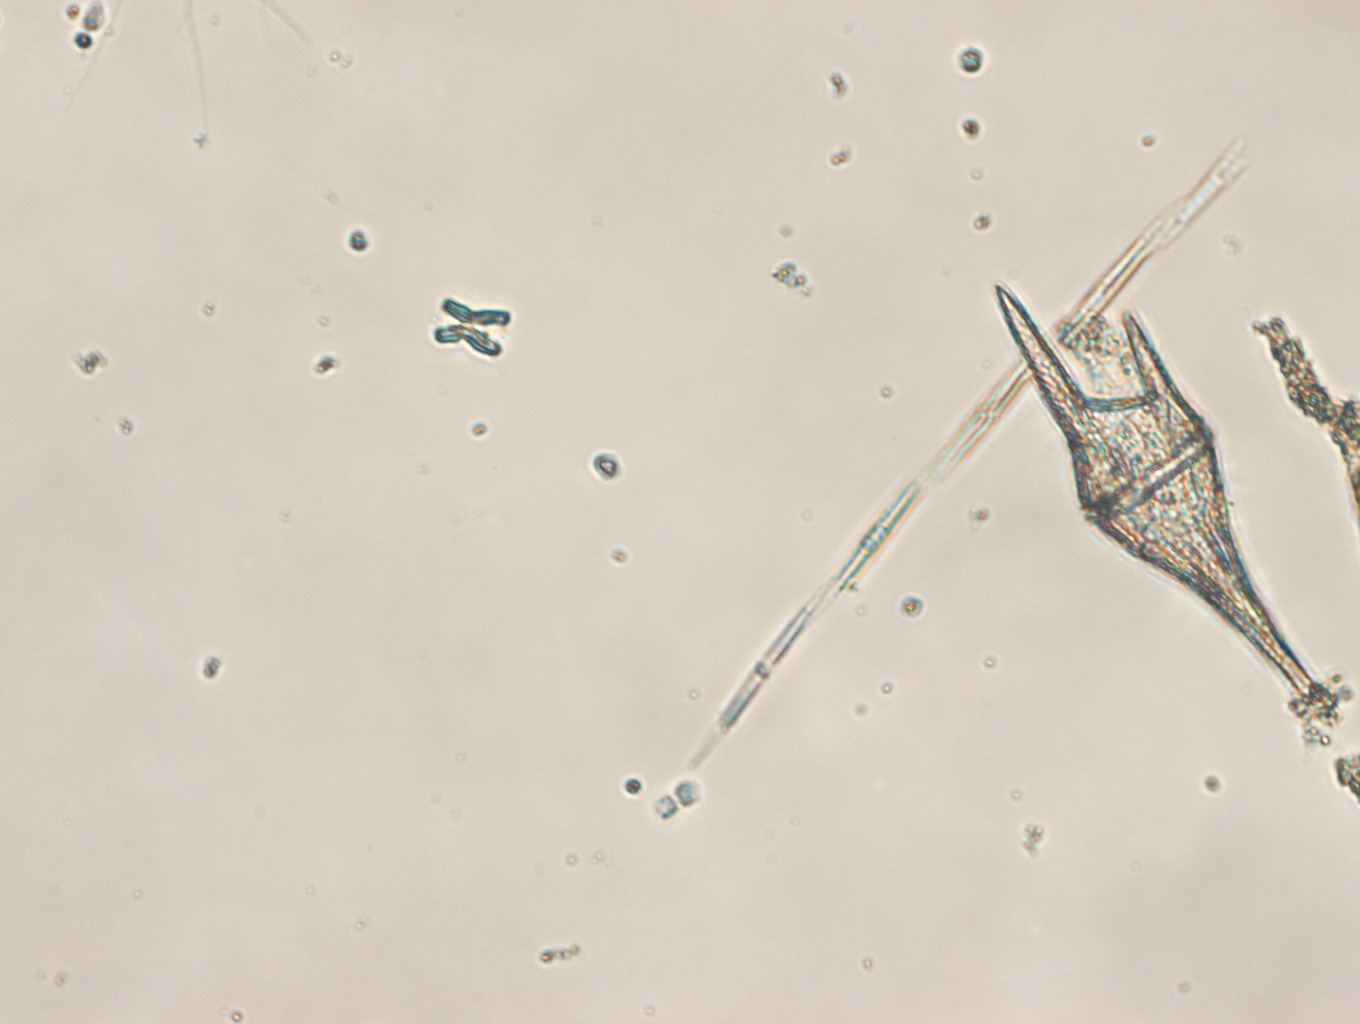ceratium furca: (993, 280, 1317, 699)
